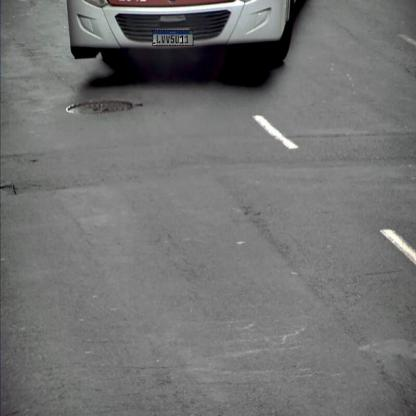PlacaM: (152, 30, 194, 46)
